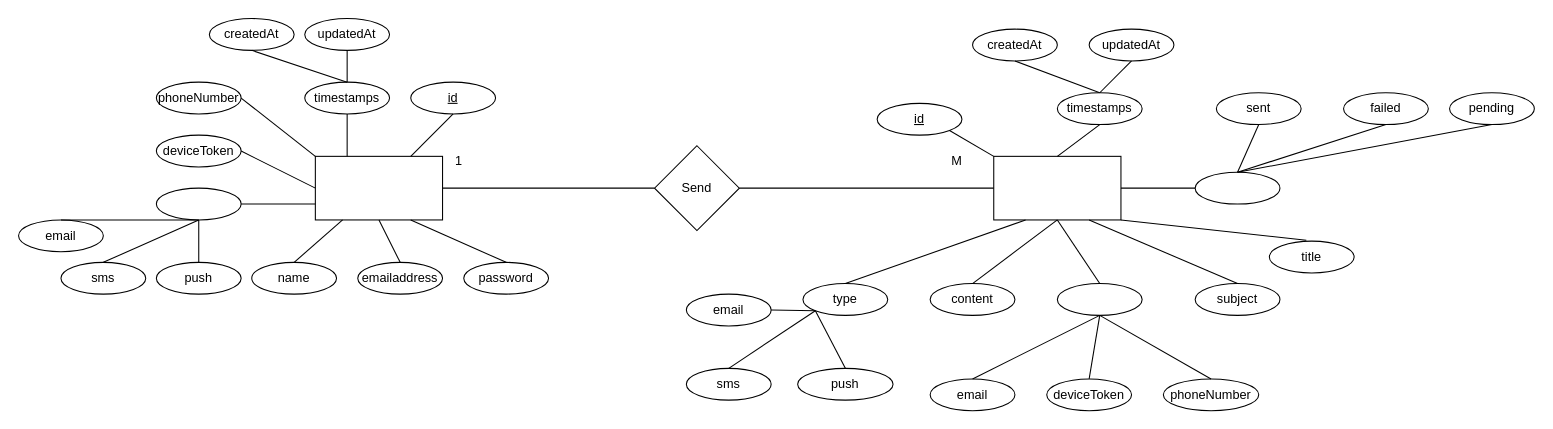
Some shapes in this 1553 by 429 pixel diagram are drawn without their labels. Here are the shapes that lost their labels. From the top down, the centre of each, then its label:
At point 198,203: "roles".
At point 378,187: "User".
At point 1057,187: "Notification".
At point 1237,187: "status".
At point 1099,298: "recipients".
